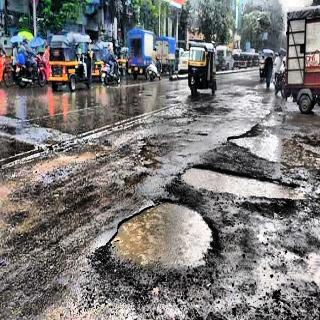pothole: (65, 154, 311, 292)
